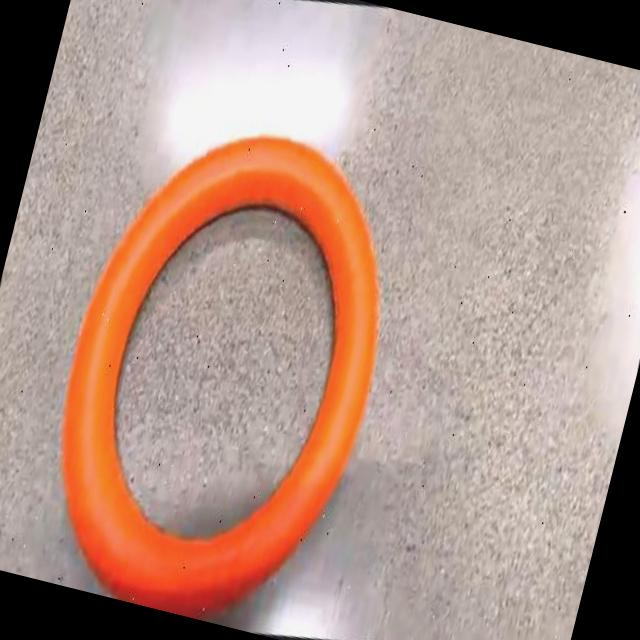note: (62, 140, 378, 615)
